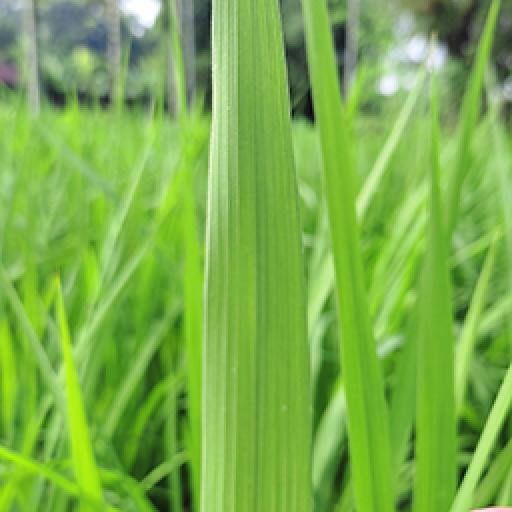Healthy Leaf: (200, 0, 312, 510)
